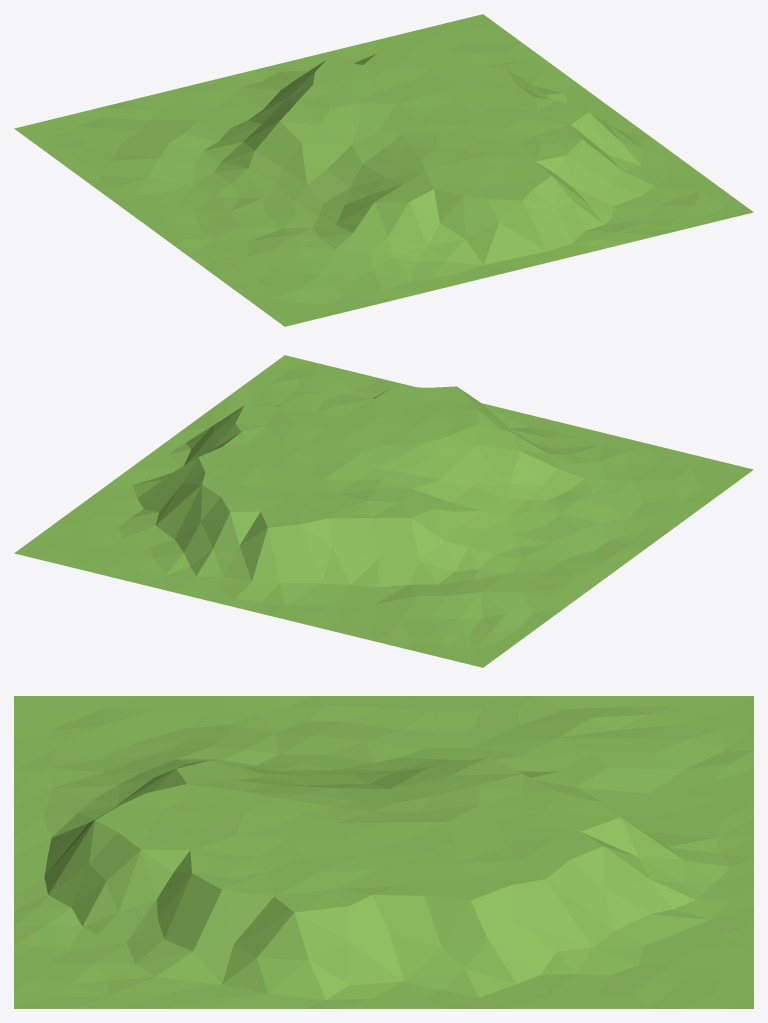
File: MT_Terrain_M_d_09_LOD.fbx
3 views of the same model, one above another, from view 1: azimuth 30°, elevation 25°; view 2: azimuth 150°, elevation 25°; view 3: azimuth 270°, elevation 25° (orthographic). The views are drawn at different scales.
Parts seen in each view (by area): view 1: MT_Terrain_M_d_09_LOD0; view 2: MT_Terrain_M_d_09_LOD0; view 3: MT_Terrain_M_d_09_LOD0.
Part boxes in pixels (x1=…): MT_Terrain_M_d_09_LOD0: x1=14, y1=14, x2=753, y2=326; MT_Terrain_M_d_09_LOD0: x1=14, y1=355, x2=753, y2=667; MT_Terrain_M_d_09_LOD0: x1=14, y1=696, x2=753, y2=1008.
Size of what is drawn, in the model's own units: 5000 by 429 by 5000.
